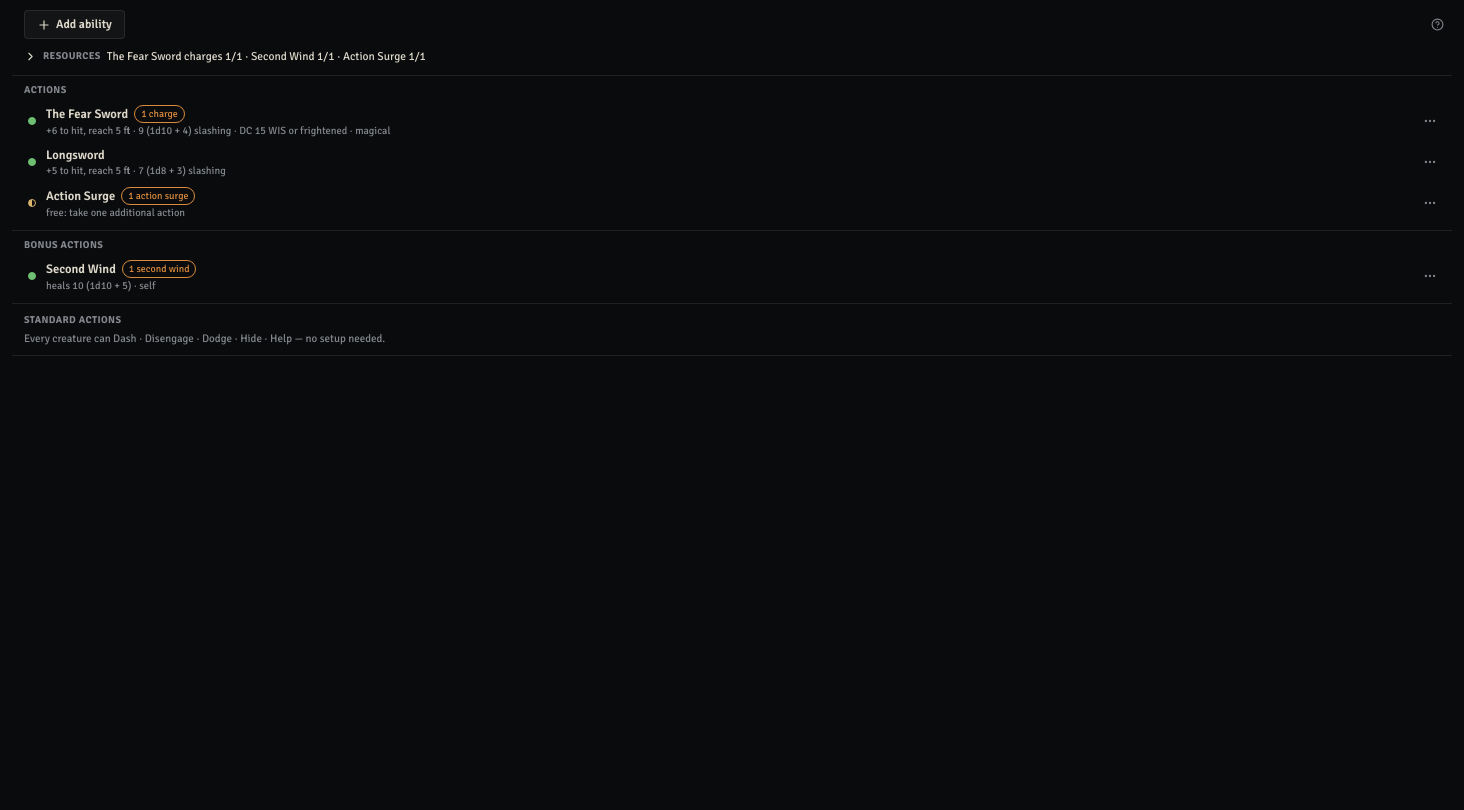
the resource list › sizes a weapon's charges so the weapon's editor shows the same number
The width and height of the screenshot is (1464, 810).
Click the button "Resources".
click(72, 56)  # box [24,47,1440,65]
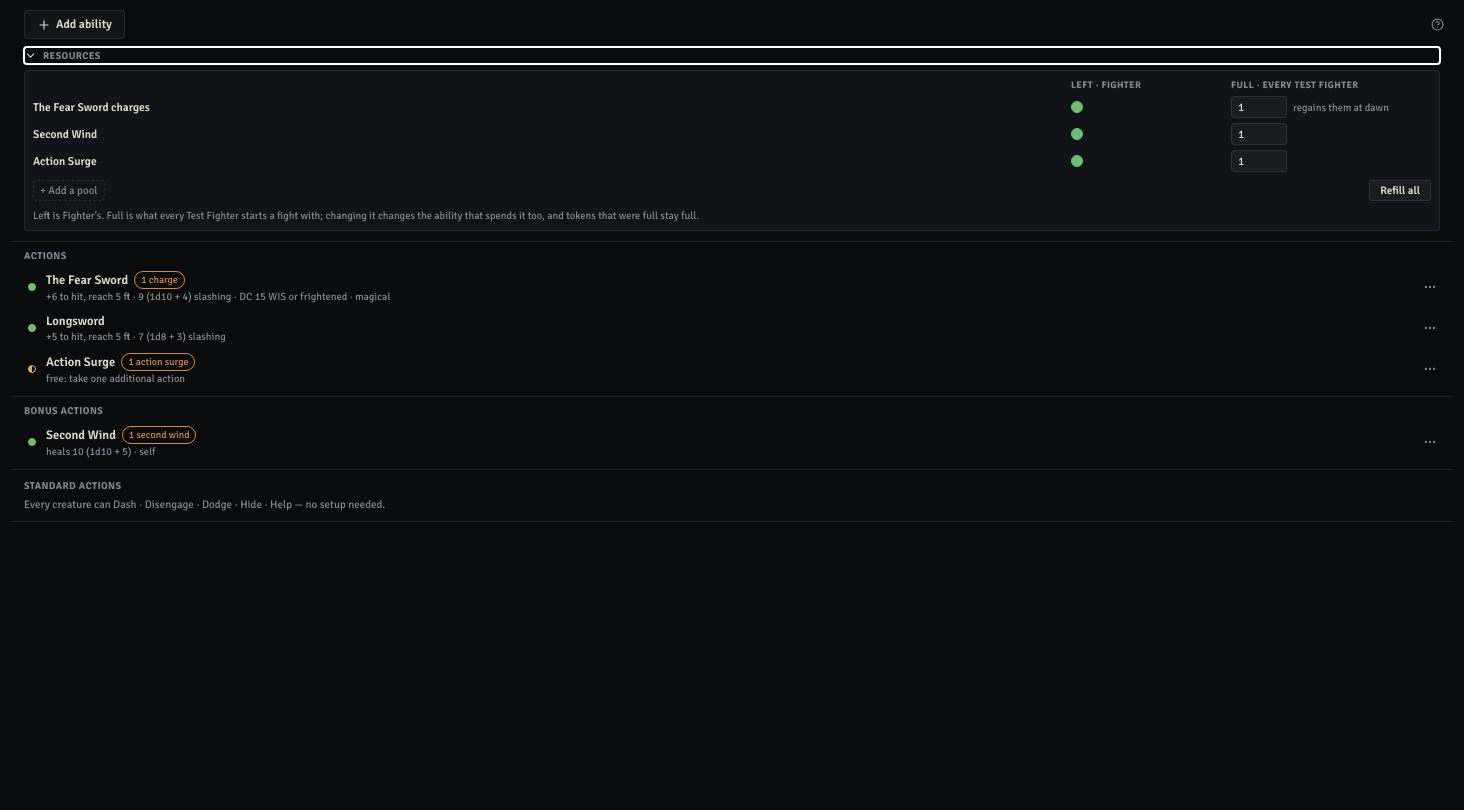
Replace the text in the field named "The Fear Sword charges full" with "3" at (1259, 107), box [1231,96,1287,118]
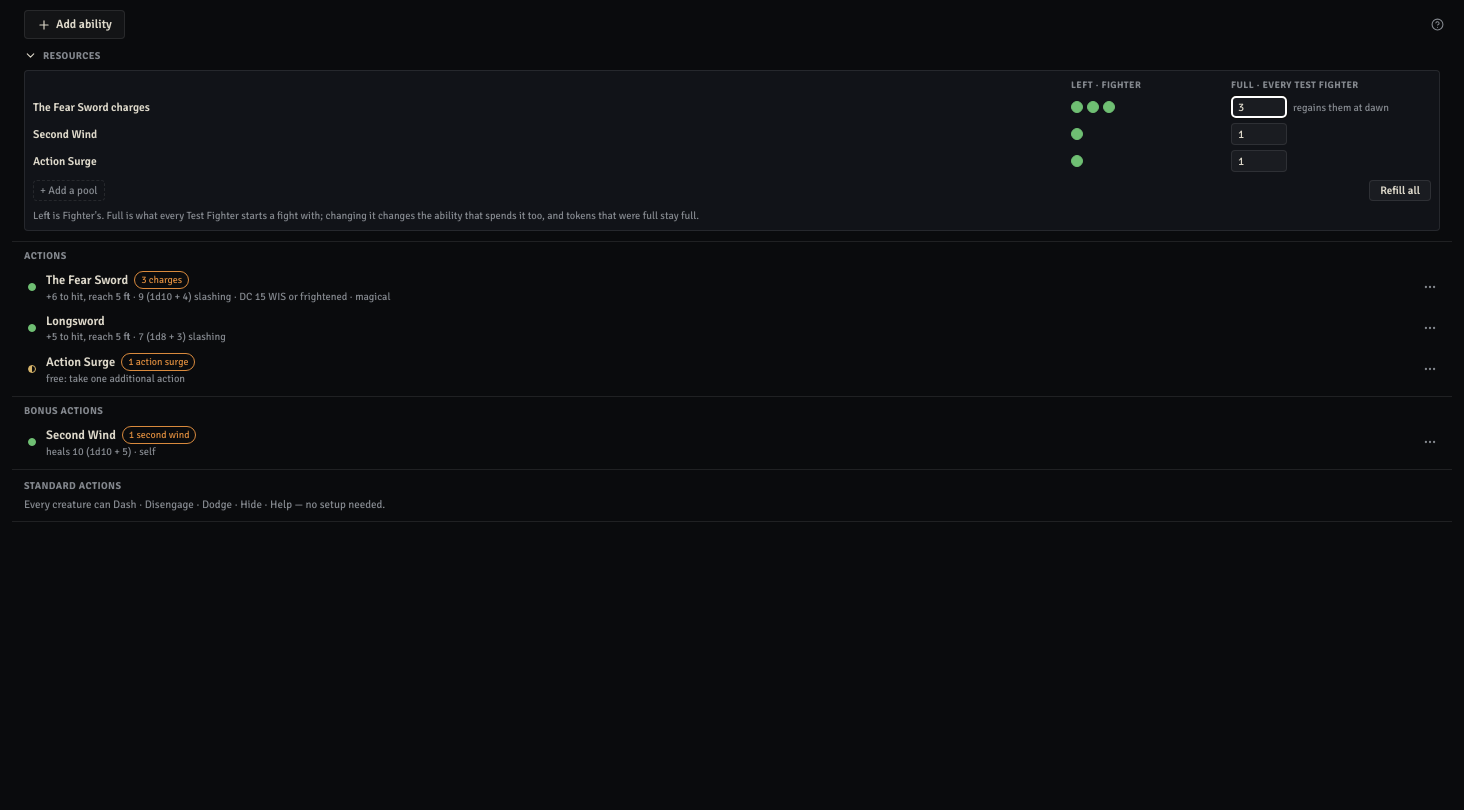
Click the button with aria-label "Edit The Fear Sword".
click(87, 280)  # box [42,266,1410,308]
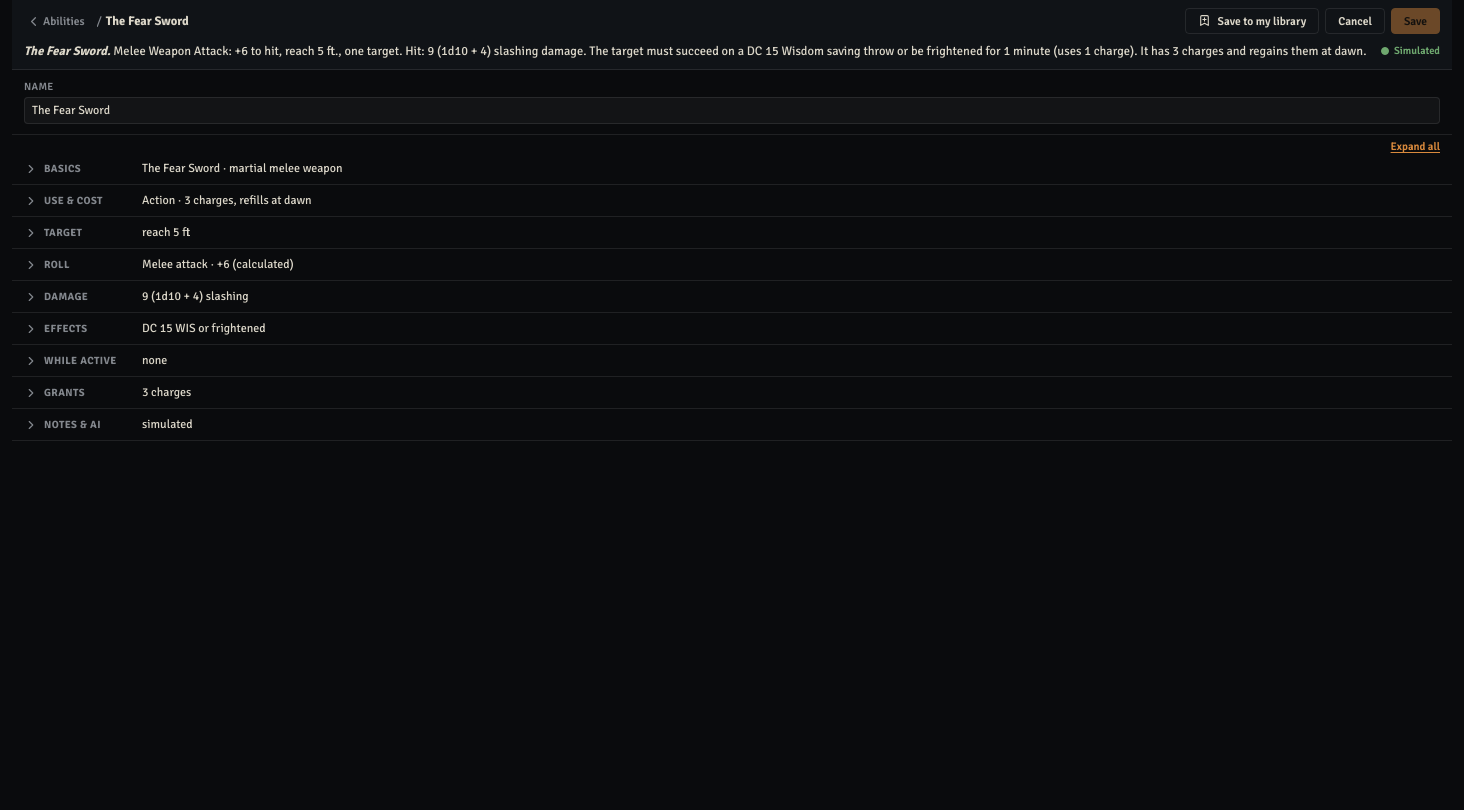
Click the button "Use & cost Action · 3 charges, refills at dawn".
click(73, 201)  # box [12,185,1452,216]
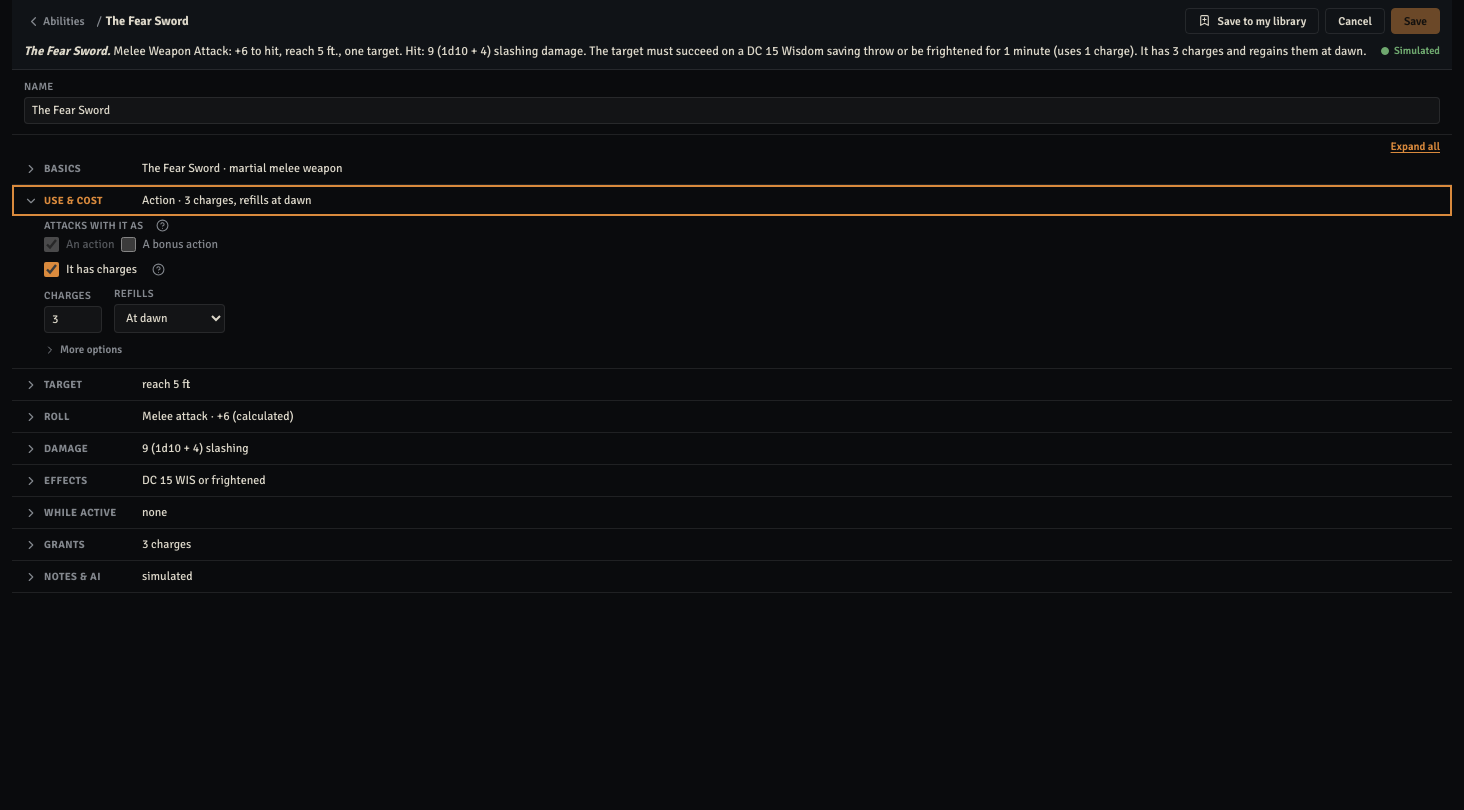
Result: the field labelled "Charges" holds "3" at [44,306,102,333]
